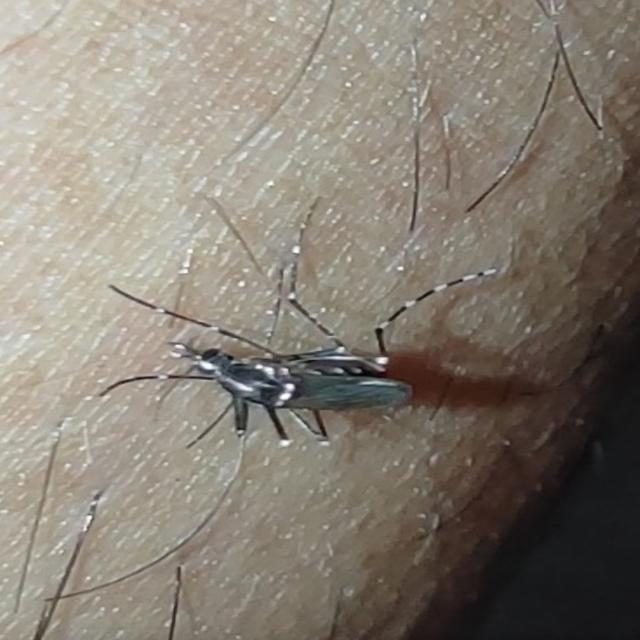albopictus: (84, 188, 499, 473)
